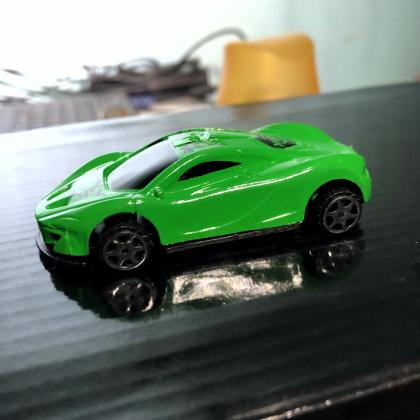Car: (34, 123, 372, 273)
